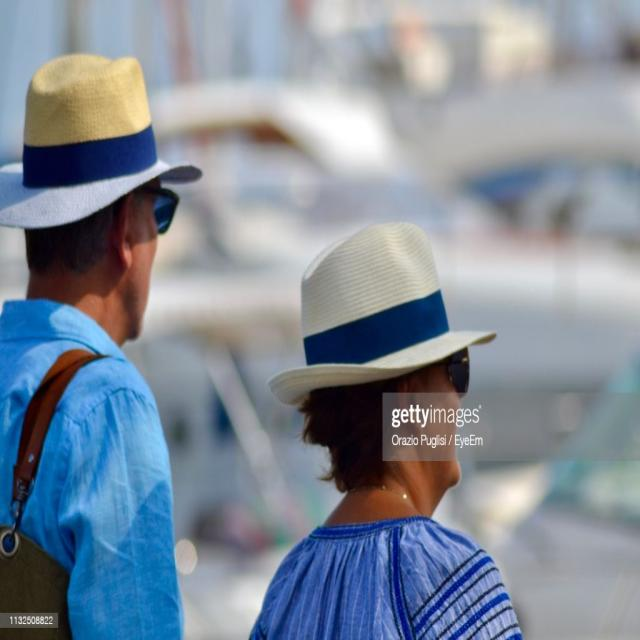hat: (272, 218, 498, 486), (1, 55, 202, 341)
